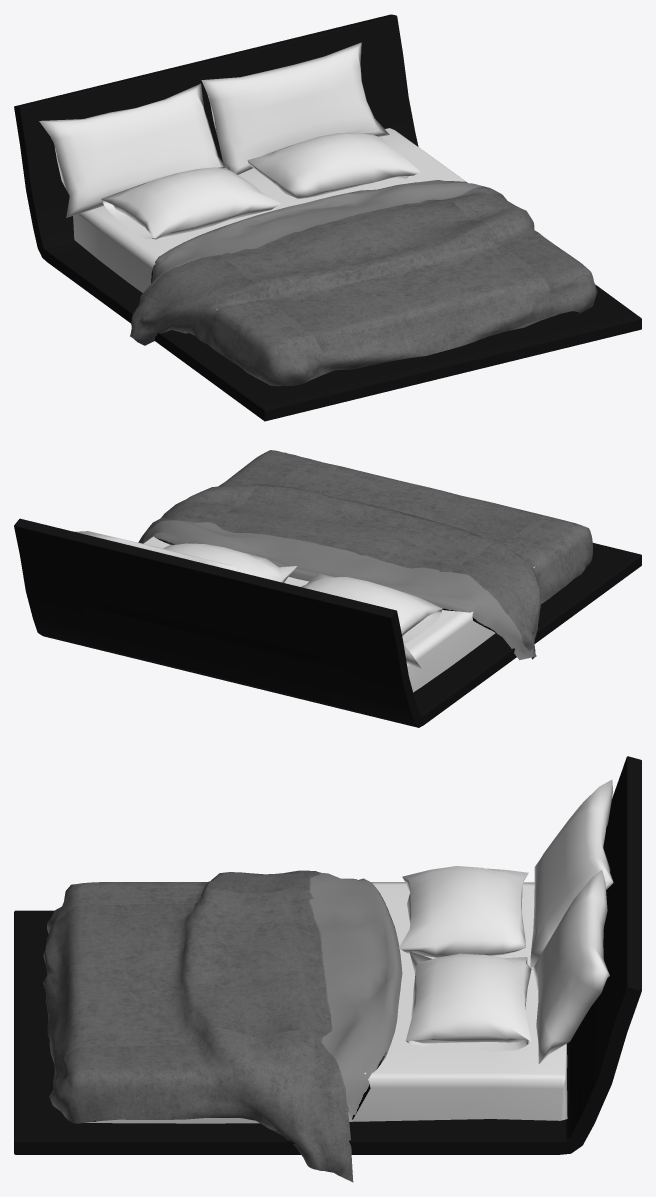
The model's file is bed-6-draco.glb.
3 renders of one model, top to bottom at view 1: azimuth 30°, elevation 25°; view 2: azimuth 150°, elevation 25°; view 3: azimuth 270°, elevation 25°, orthographic. The views are drawn at different scales.
Parts seen in each view (by area): view 1: Object_4, Object_3, Object_2; view 2: Object_2, Object_4, Object_3; view 3: Object_4, Object_3, Object_2.
Boxes of the visible parts, x1=… form: Object_4: x1=130, y1=180, x2=597, y2=386; Object_3: x1=39, y1=42, x2=465, y2=309; Object_2: x1=14, y1=14, x2=641, y2=421; Object_2: x1=14, y1=518, x2=641, y2=727; Object_4: x1=138, y1=450, x2=592, y2=660; Object_3: x1=74, y1=531, x2=535, y2=692; Object_4: x1=43, y1=870, x2=402, y2=1182; Object_3: x1=85, y1=779, x2=613, y2=1123; Object_2: x1=14, y1=756, x2=641, y2=1154.
Bounding box in the file's own units: 222 × 81.02 × 240.
3 materials, 3 textured.
